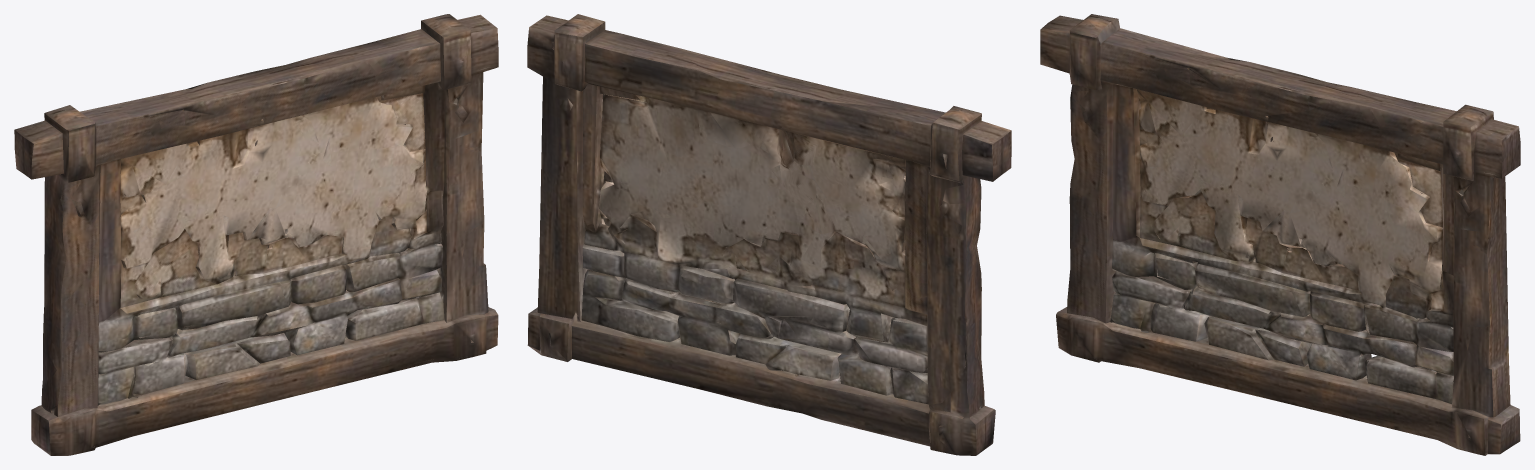
3 views of the same model, side by side, from view 1: azimuth 30°, elevation 25°; view 2: azimuth 150°, elevation 25°; view 3: azimuth 330°, elevation 25° (orthographic).
Visible parts, largest first — view 1: geometry_0; view 2: geometry_0; view 3: geometry_0.
Part boxes in pixels (<box>): geometry_0: <box>14,14,498,455</box>; geometry_0: <box>527,14,1011,455</box>; geometry_0: <box>1040,14,1520,455</box>.
Bounding box in the file's own units: 1.2 × 0.8211 × 0.1275.
1 material, 1 textured.
